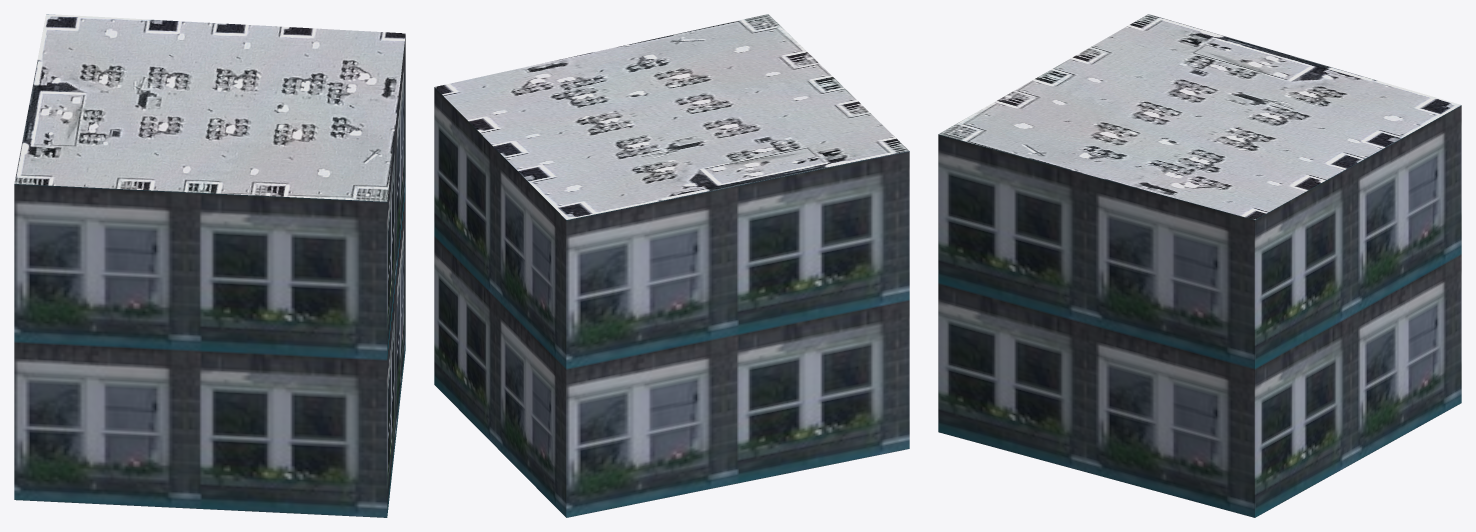
File: ResTex__4990.fbx
The picture shows the model from 3 angles, left to right: view 1: azimuth 30°, elevation 25°; view 2: azimuth 150°, elevation 25°; view 3: azimuth 270°, elevation 25°; orthographic projection. The views are drawn at different scales.
Visible parts, largest first — view 1: CityEngineMaterial_11_m, CityEngineMaterial_8_m; view 2: CityEngineMaterial_11_m, CityEngineMaterial_8_m; view 3: CityEngineMaterial_11_m, CityEngineMaterial_8_m.
Boxes of the visible parts, x1,y1,x2,y2 form: CityEngineMaterial_11_m: (14, 35, 405, 517); CityEngineMaterial_8_m: (14, 14, 405, 201); CityEngineMaterial_11_m: (434, 87, 909, 517); CityEngineMaterial_8_m: (435, 14, 908, 219); CityEngineMaterial_11_m: (938, 105, 1461, 517); CityEngineMaterial_8_m: (938, 14, 1461, 219).
Size of the model in its own units: 8.89 by 6 by 9.55.
Materials: 2 (2 with a texture image).
